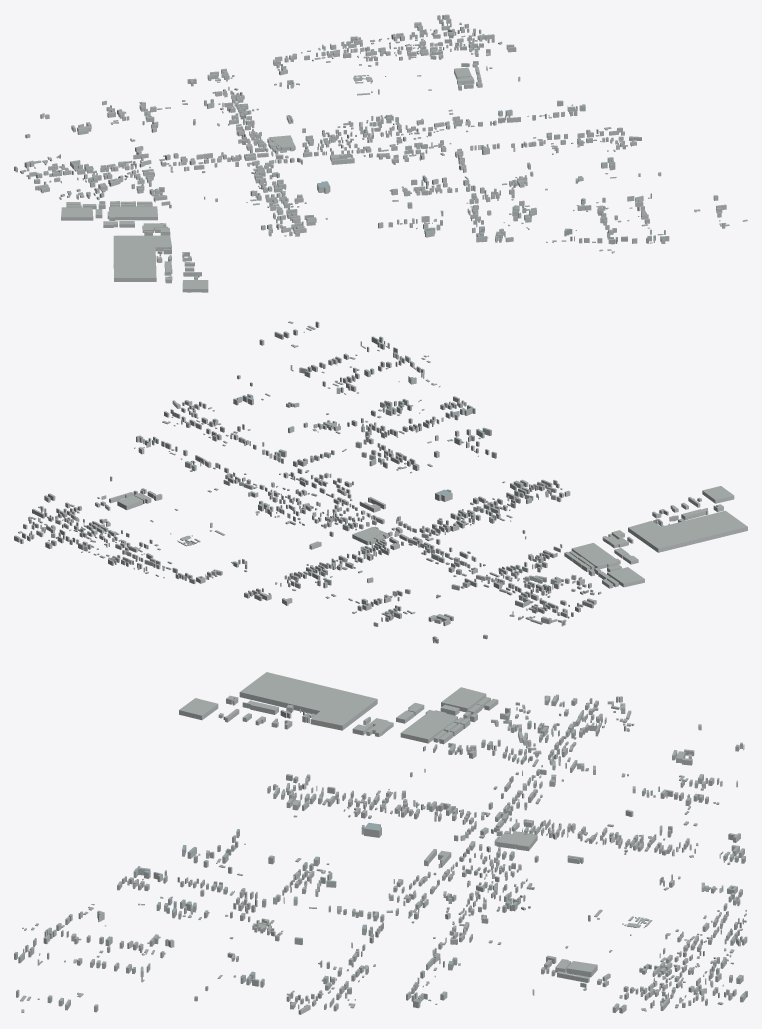
Rendered from far.glb.
3 views of the same model, one above another, from view 1: azimuth 30°, elevation 25°; view 2: azimuth 150°, elevation 25°; view 3: azimuth 270°, elevation 25° (orthographic). The views are drawn at different scales.
Bounding box in the file's own units: 2273 × 22.8 × 2086.
